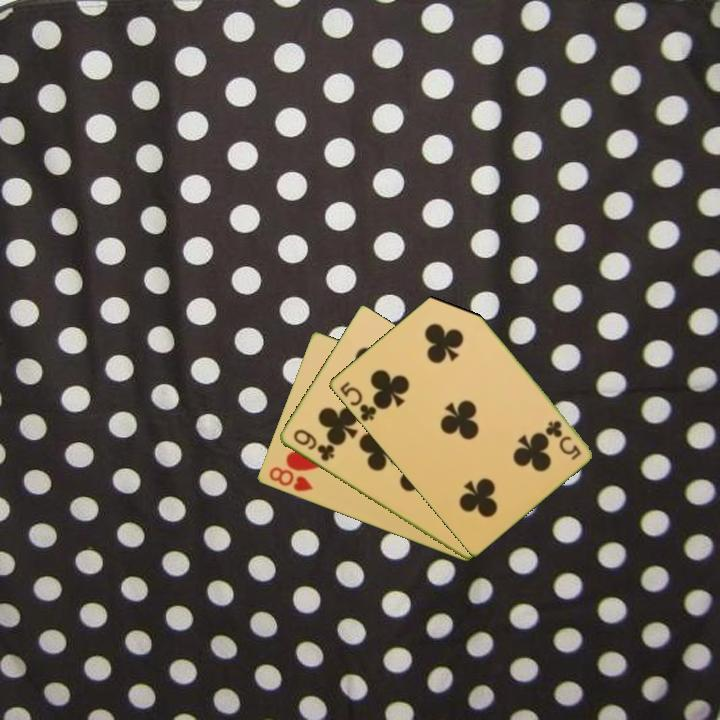5c: (336, 378, 381, 424), (542, 417, 584, 463)
8h: (265, 463, 316, 495)
9c: (289, 426, 337, 464)
